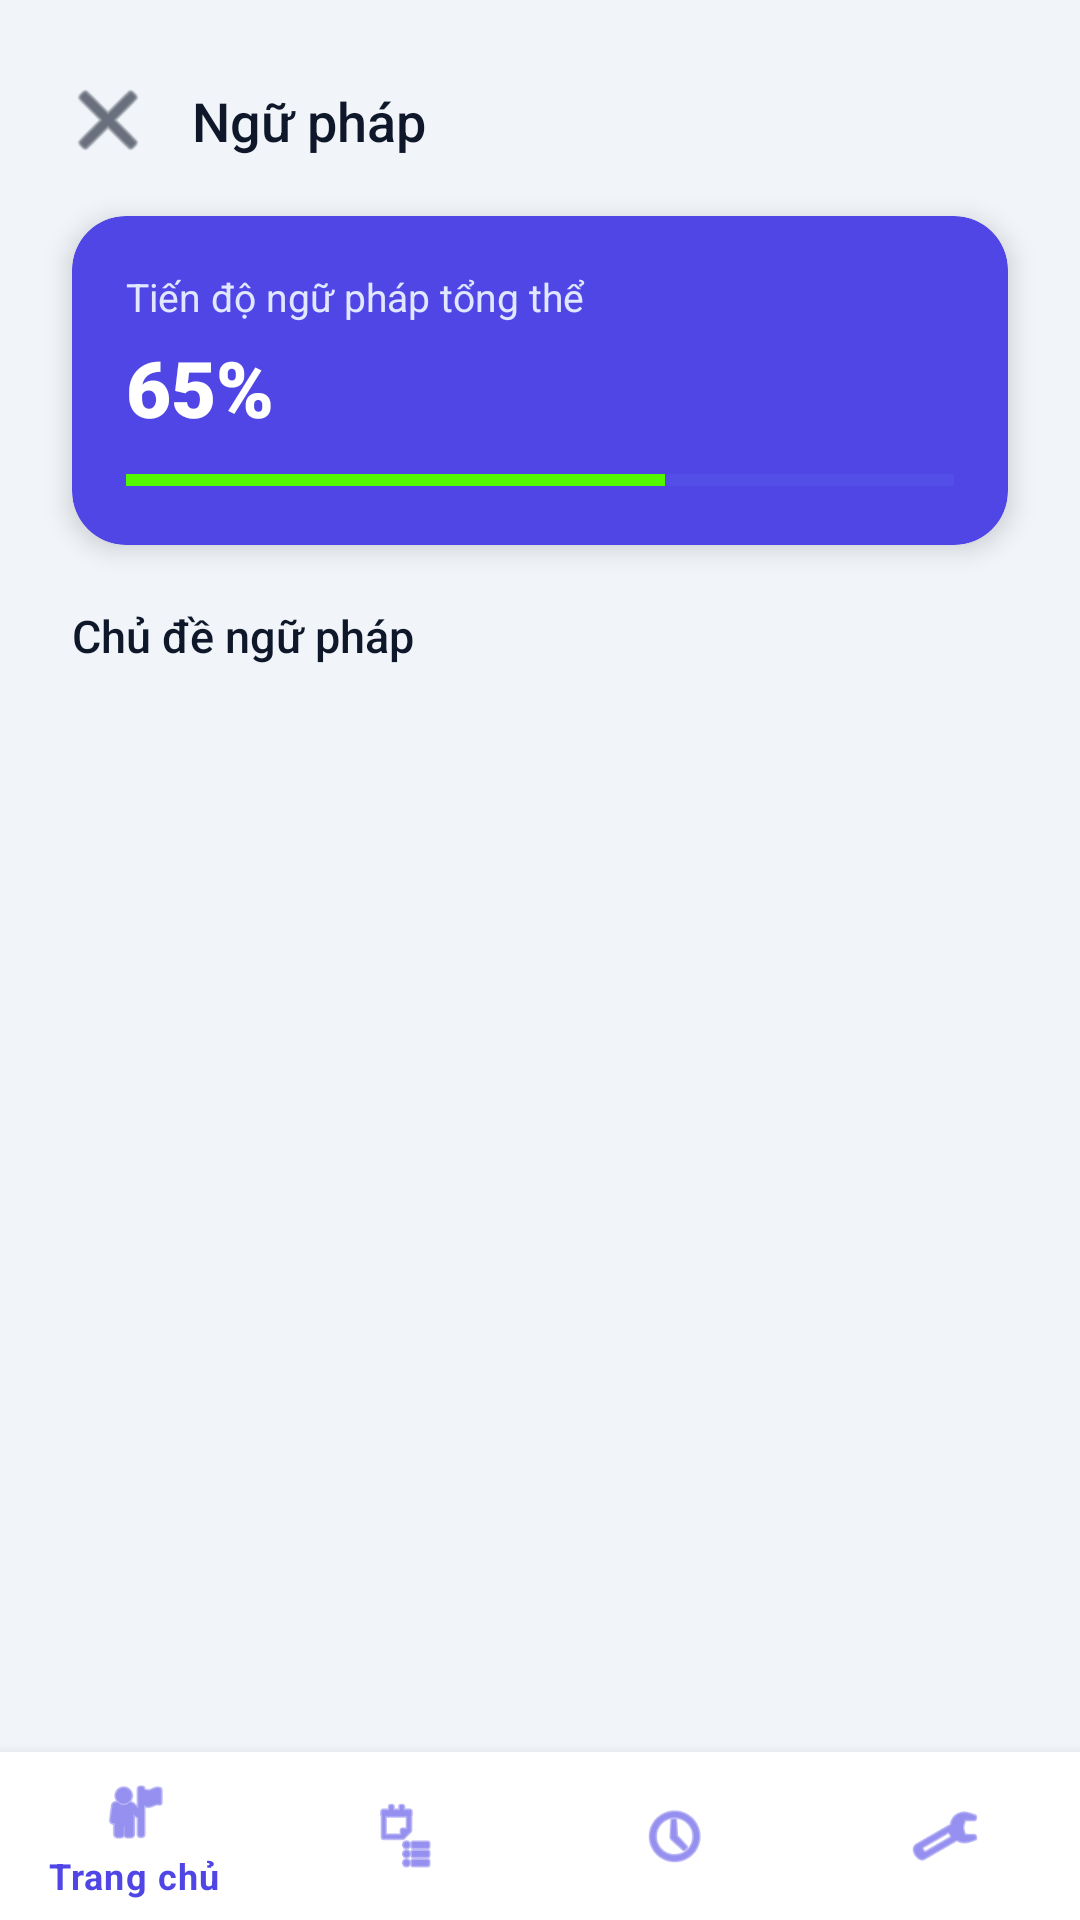

Where to tap for icons on this 1080px x 1920px app screen, as point (x, y):
close clear cancel: point (108, 120)
